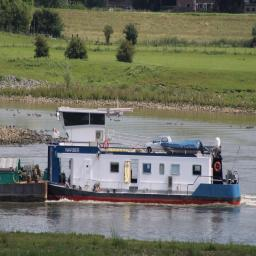tugboat: (46, 105, 243, 215)
